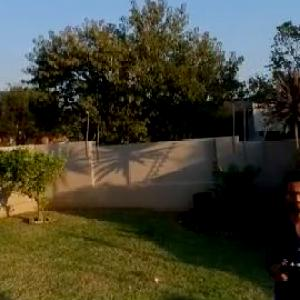follow: (261, 162, 299, 299)
